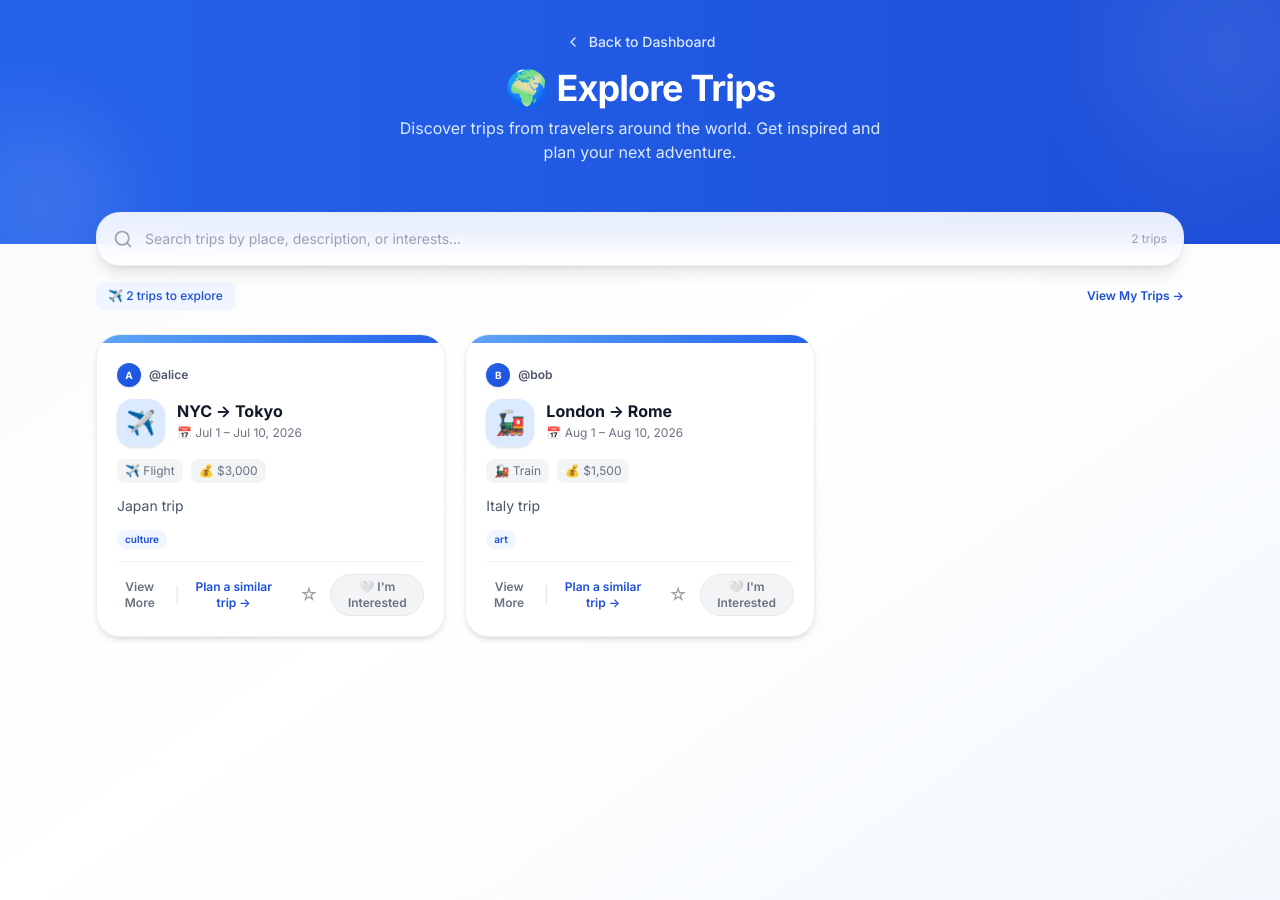
Test: Explore › filters trips by search query when logged in
The width and height of the screenshot is (1280, 900).
Expected: the heading "NYC → Tokyo" is shown, x1=177 y1=401 x2=283 y2=421
Expected: the heading "London → Rome" is shown, x1=546 y1=401 x2=672 y2=421
Type "Tokyo" into the field with placeholder "Search trips by place, description, or interests…".
click(632, 239); type("Tokyo")  # box x1=145 y1=229 x2=1119 y2=249
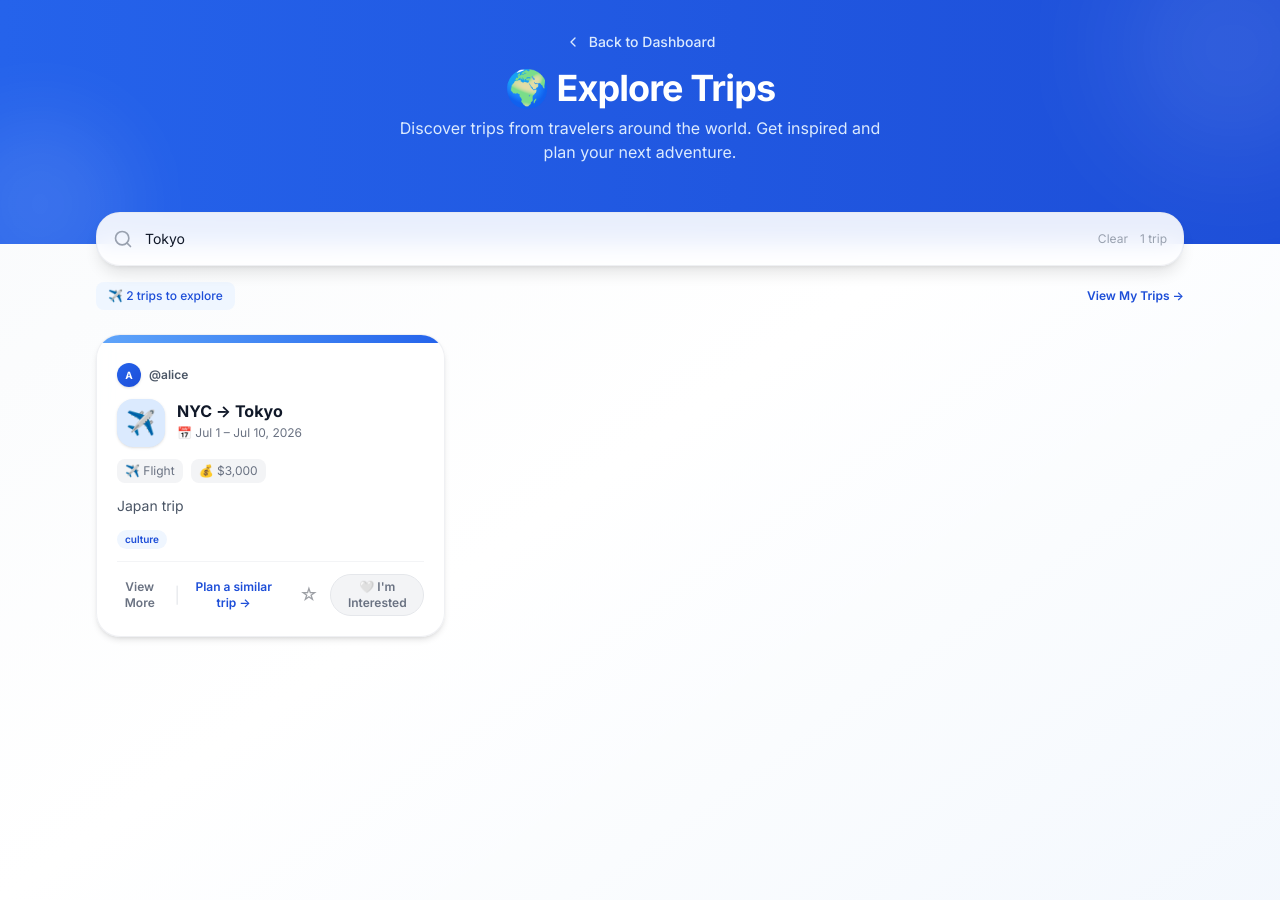
Expected: the heading "NYC → Tokyo" is shown, x1=177 y1=401 x2=283 y2=421
Result: the heading "Rome" is gone
